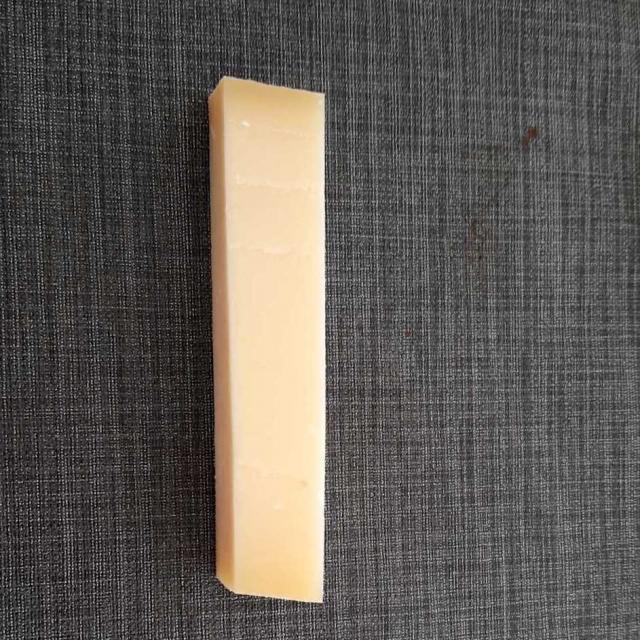gruyere: (209, 91, 317, 577)
